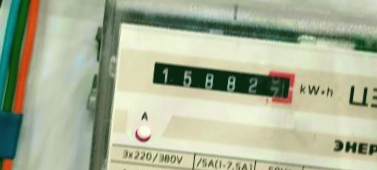1: (159, 64, 171, 83)
2: (246, 74, 259, 93)
5: (180, 68, 194, 86)
7: (268, 84, 280, 96)
8: (201, 70, 215, 88), (224, 72, 237, 91)
screen: (142, 49, 301, 111)
